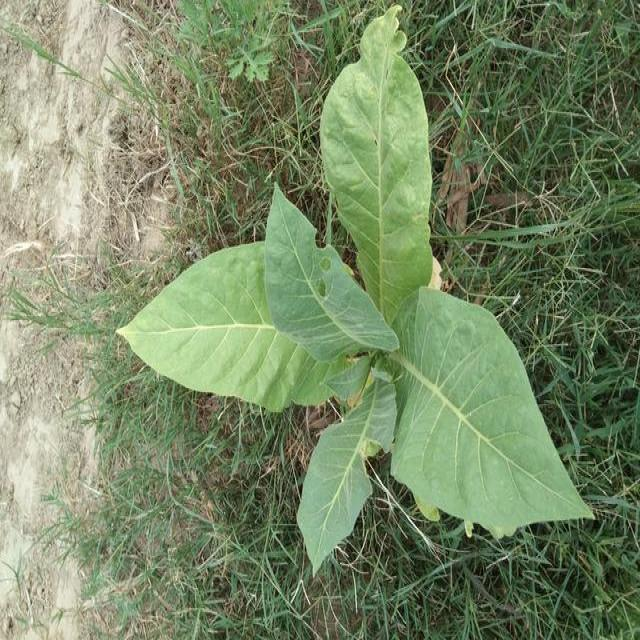crop: (115, 12, 599, 564)
